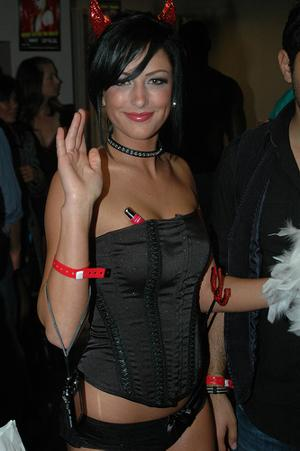person: (38, 9, 300, 451)
